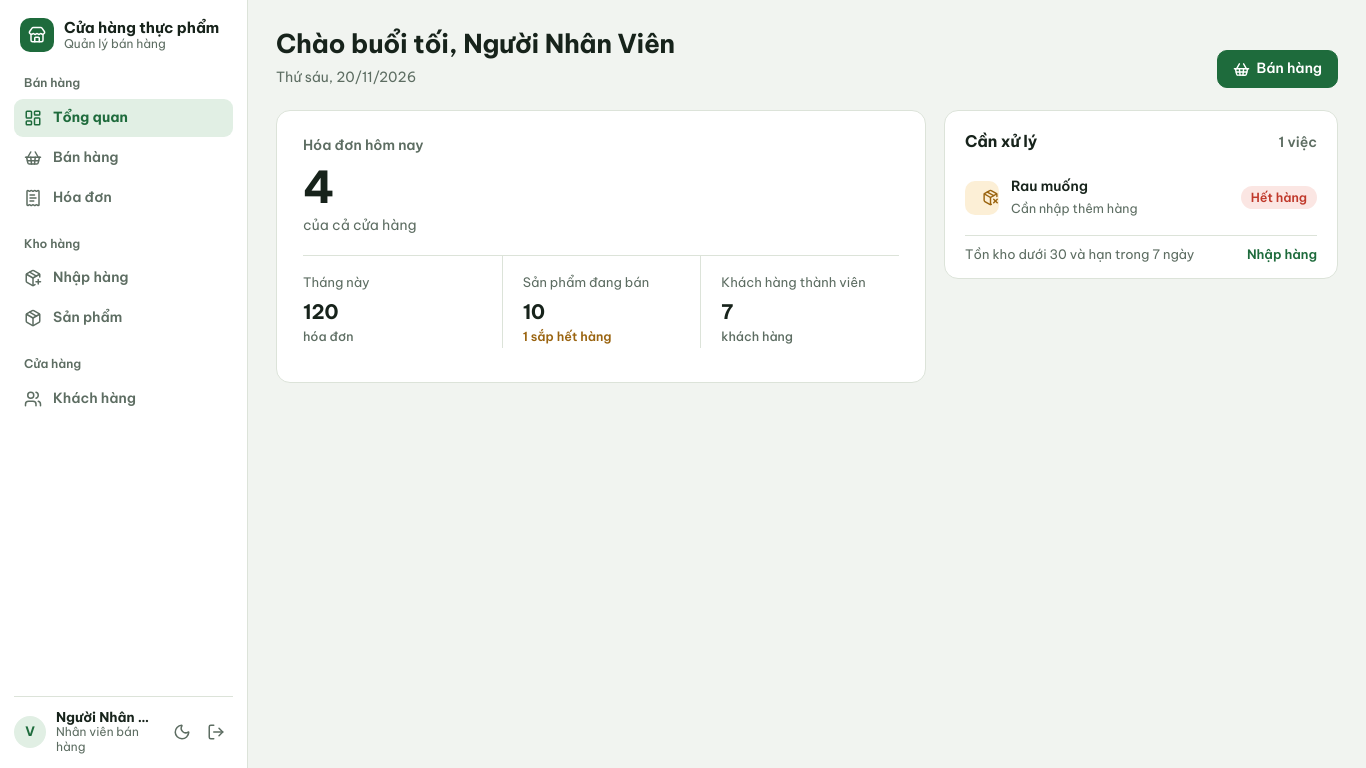
Test: App › nhân viên không thấy doanh thu và không có nút thêm/sửa sản phẩm
The image size is (1366, 768).
Expected: the text "Hóa đơn hôm nay" is shown, [303,136,424,154]
Click the link "Sản phẩm".
click(73, 318)  # box [24,308,122,327]
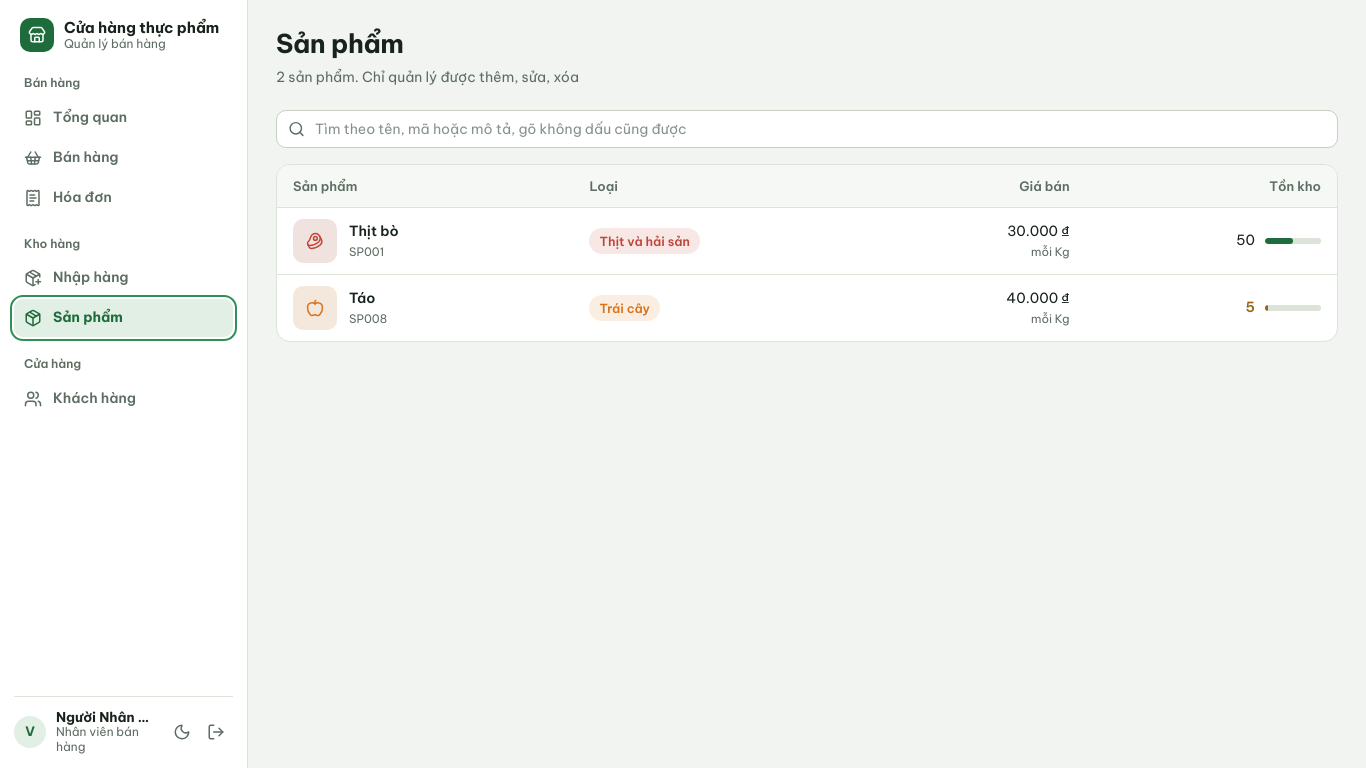
Now the text "Thịt bò" is shown, box [349,222,399,240]
